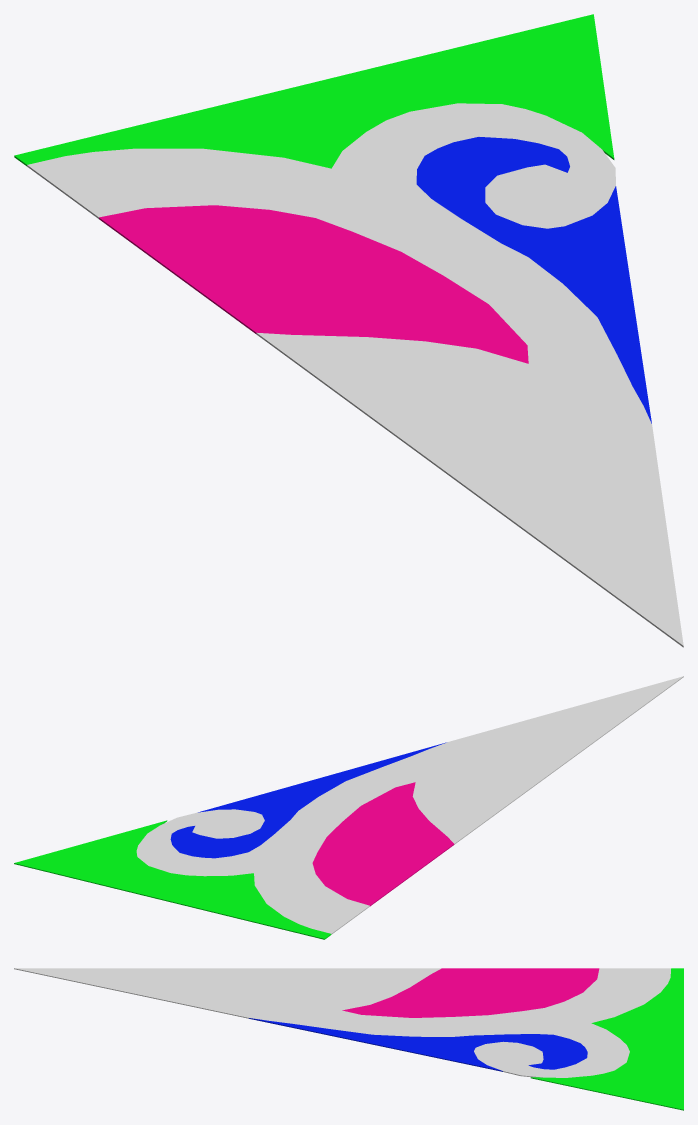
File: kagtttttt.fbx
3 renders of one model, top to bottom at view 1: azimuth 30°, elevation 25°; view 2: azimuth 150°, elevation 25°; view 3: azimuth 270°, elevation 25°, orthographic. The views are drawn at different scales.
Visible parts, largest first — view 1: Cube.066, Cube.070, Cube.069, Cube.067; view 2: Cube.066, Cube.070, Cube.069, Cube.067; view 3: Cube.066, Cube.070, Cube.069, Cube.067.
Part boxes in pixels (x1,y1,x2,y2): Cube.066: (27, 103, 683, 647); Cube.070: (99, 205, 528, 363); Cube.069: (14, 14, 614, 168); Cube.067: (416, 137, 651, 423); Cube.066: (136, 676, 683, 934); Cube.070: (312, 782, 454, 906); Cube.069: (14, 820, 331, 939); Cube.067: (170, 742, 446, 858); Cube.066: (14, 968, 670, 1077); Cube.070: (342, 968, 599, 1017); Cube.069: (530, 968, 683, 1110); Cube.067: (248, 1018, 587, 1071).
Bounding box in the file's own units: 0.5004 × 0.00145 × 1.
